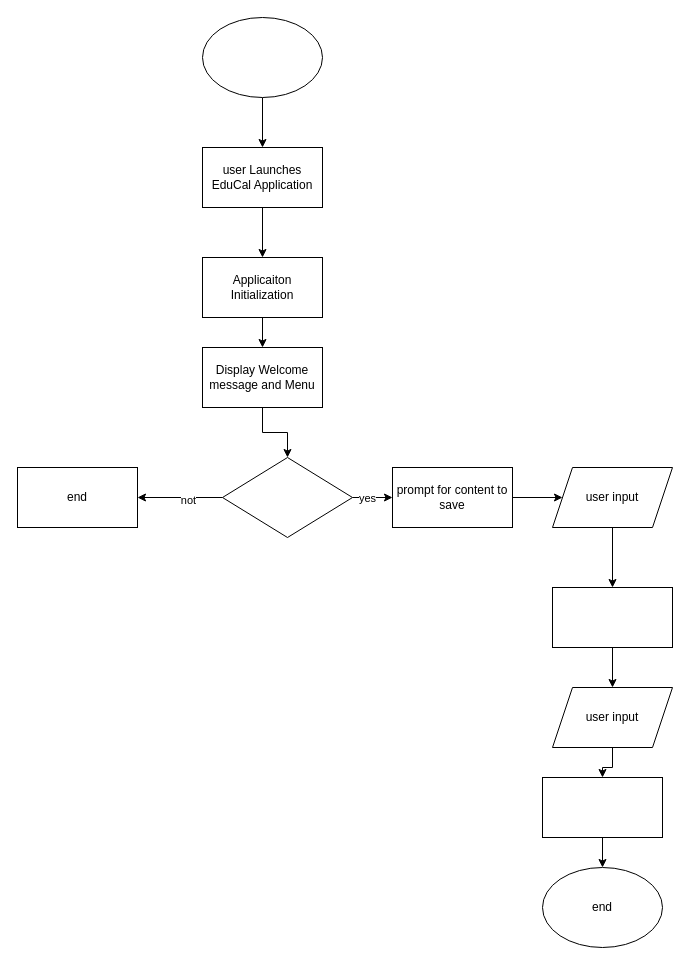
This 690x965 diagram has some shape labels left out. The box of each missing label's shape, as (x1, y1, x2, y2) in pixels:
CallSavetoFileMethod: (542, 776, 662, 838)
prompt for year: (552, 586, 672, 648)
Start: (202, 16, 322, 98)
user selects 'Save to File': (222, 456, 352, 538)
